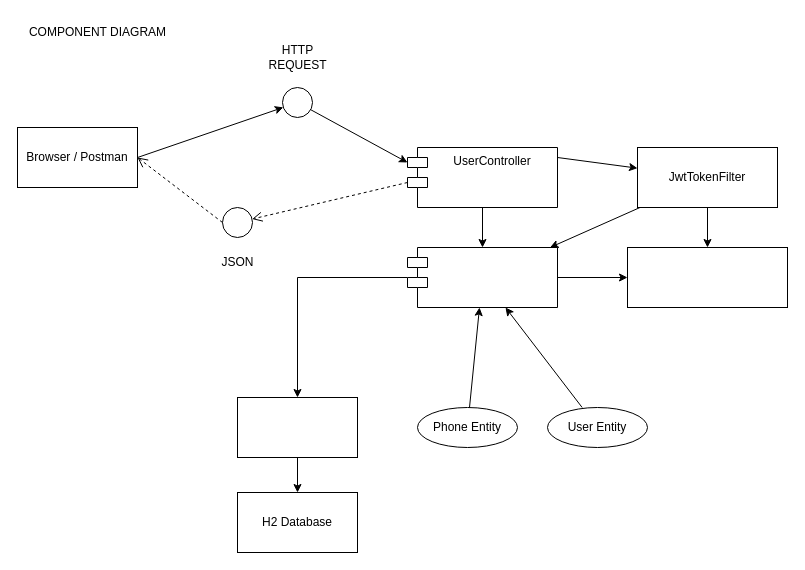
This 805x570 diagram has some shape labels left out. Each missing label, with the box of its shape:
Repositories: (236, 396, 358, 458)
SecurityConfig: (626, 246, 788, 308)
UserService: (406, 246, 558, 308)
